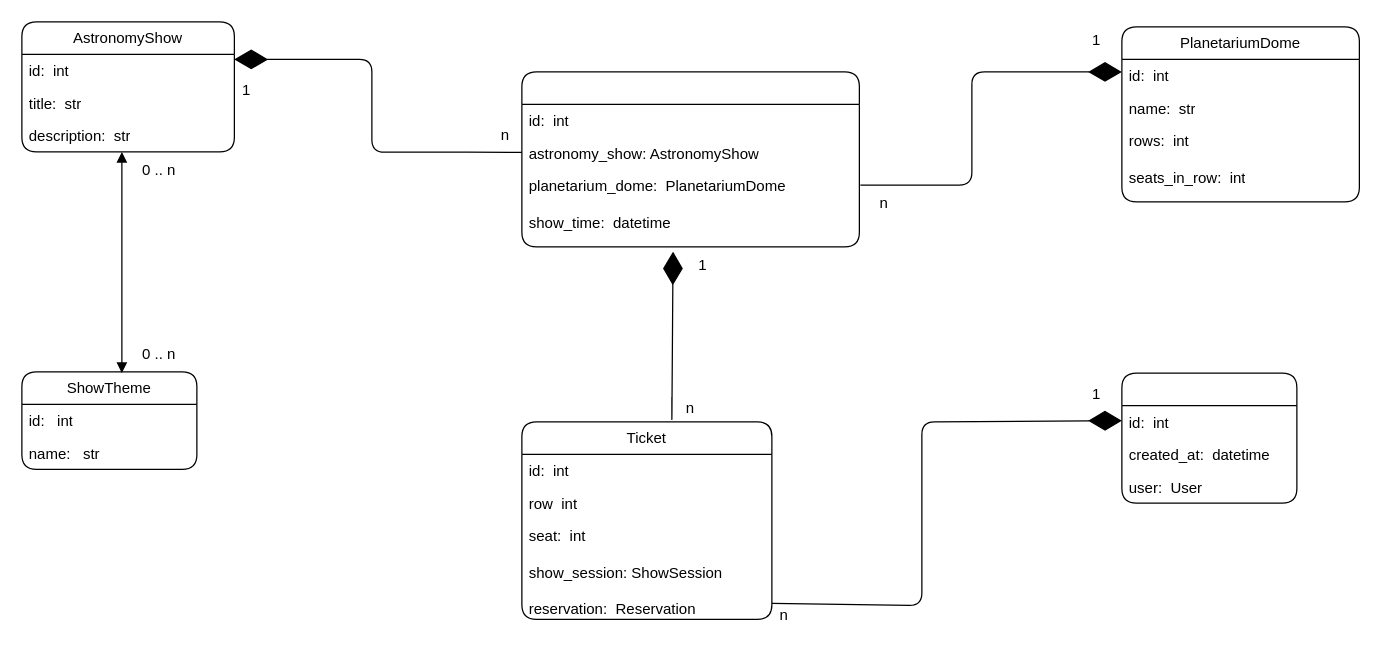
The diagram is 1381 pixels wide and 660 high, and some of its shapes have lost their labels. The shapes that lost their labels are listed below. From the top down, each one's box as (x1, y1, x2, y2) in pixels, then its label:
(521, 71, 859, 247): ShowSession
(1121, 372, 1297, 503): Reservation
